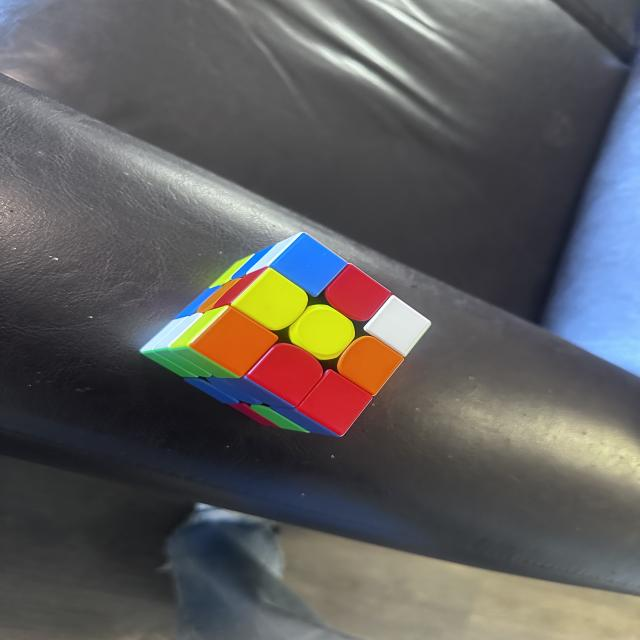sticker: (207, 377, 328, 436), (186, 306, 280, 378), (294, 368, 372, 438), (139, 315, 227, 377), (226, 267, 309, 331), (244, 343, 323, 408), (270, 234, 345, 297), (362, 293, 432, 357), (336, 335, 404, 396), (323, 263, 392, 321), (260, 392, 343, 438), (288, 304, 357, 359), (194, 374, 272, 412), (206, 268, 268, 311), (228, 238, 289, 278), (174, 308, 225, 348), (196, 276, 248, 313), (248, 402, 310, 433), (176, 285, 222, 318), (214, 253, 257, 283), (230, 402, 280, 427)
